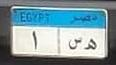1: (31, 29, 41, 51)
haa: (83, 36, 98, 53)
seen: (68, 36, 82, 53)
